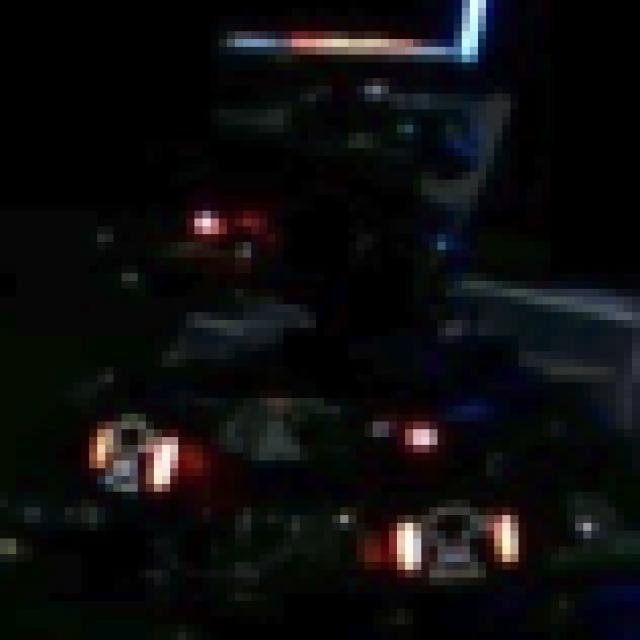Rs: (380, 508, 534, 578), (89, 414, 178, 484)
